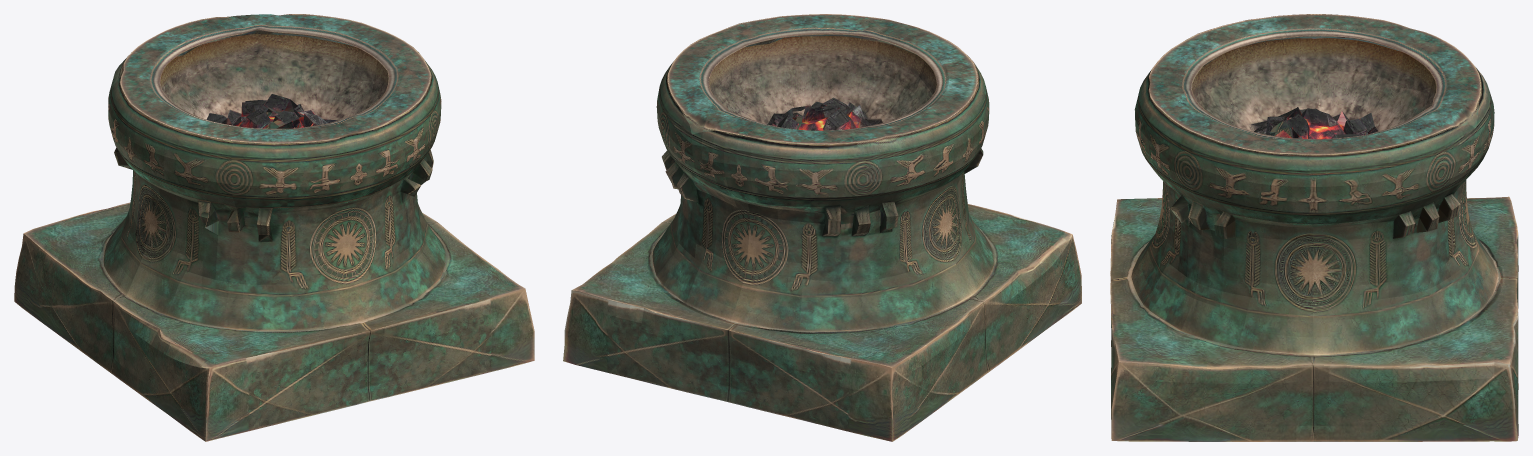
The model's file is p_cooperdrumfireholder.glb.
3 views of the same model, side by side, from view 1: azimuth 30°, elevation 25°; view 2: azimuth 150°, elevation 25°; view 3: azimuth 270°, elevation 25° (orthographic). The views are drawn at different scales.
Size of the model in its own units: 1.92 by 1.42 by 1.92.
Materials: 1 (1 with a texture image).
